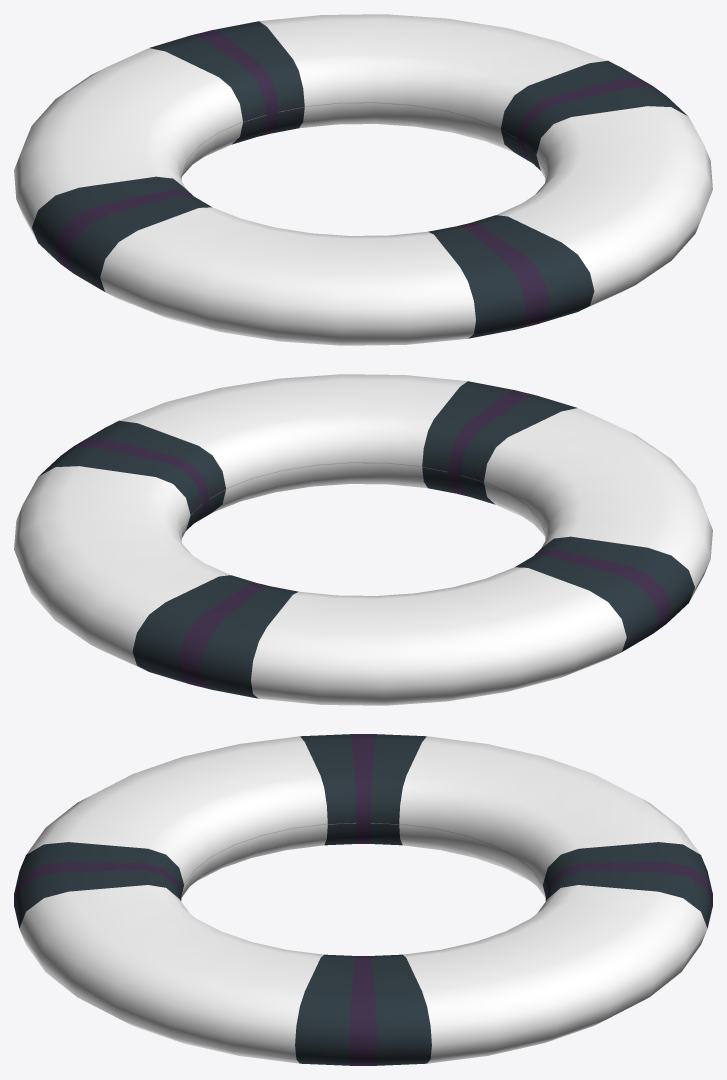
The model's file is life_ring.glb.
The picture shows the model from 3 angles, top to bottom: view 1: azimuth 30°, elevation 25°; view 2: azimuth 150°, elevation 25°; view 3: azimuth 270°, elevation 25°; orthographic projection.
Parts seen in each view (by area): view 1: LifePreserverRing1v01; view 2: LifePreserverRing1v01; view 3: LifePreserverRing1v01.
Boxes of the visible parts, x1,y1,x2,y2 form: LifePreserverRing1v01: (14,14,712,345); LifePreserverRing1v01: (14,374,712,705); LifePreserverRing1v01: (14,734,712,1065).
Bounding box in the file's own units: 9.56 × 1 × 9.56.
Materials: 1 (1 with a texture image).
